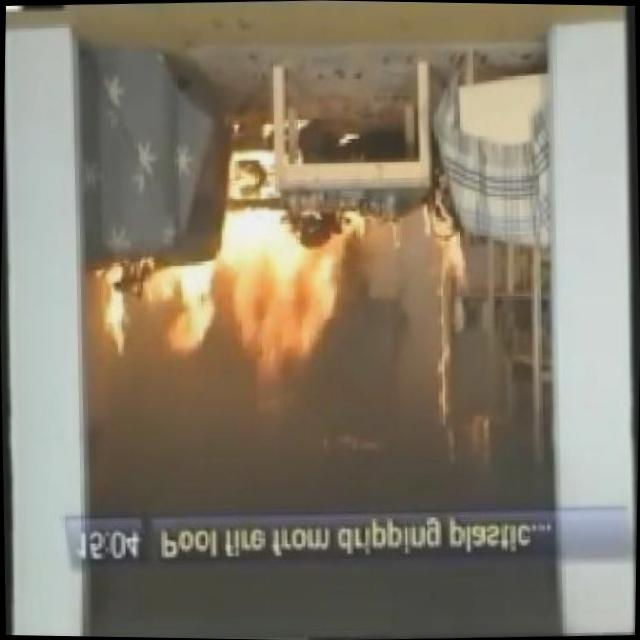fire: (87, 212, 374, 388)
